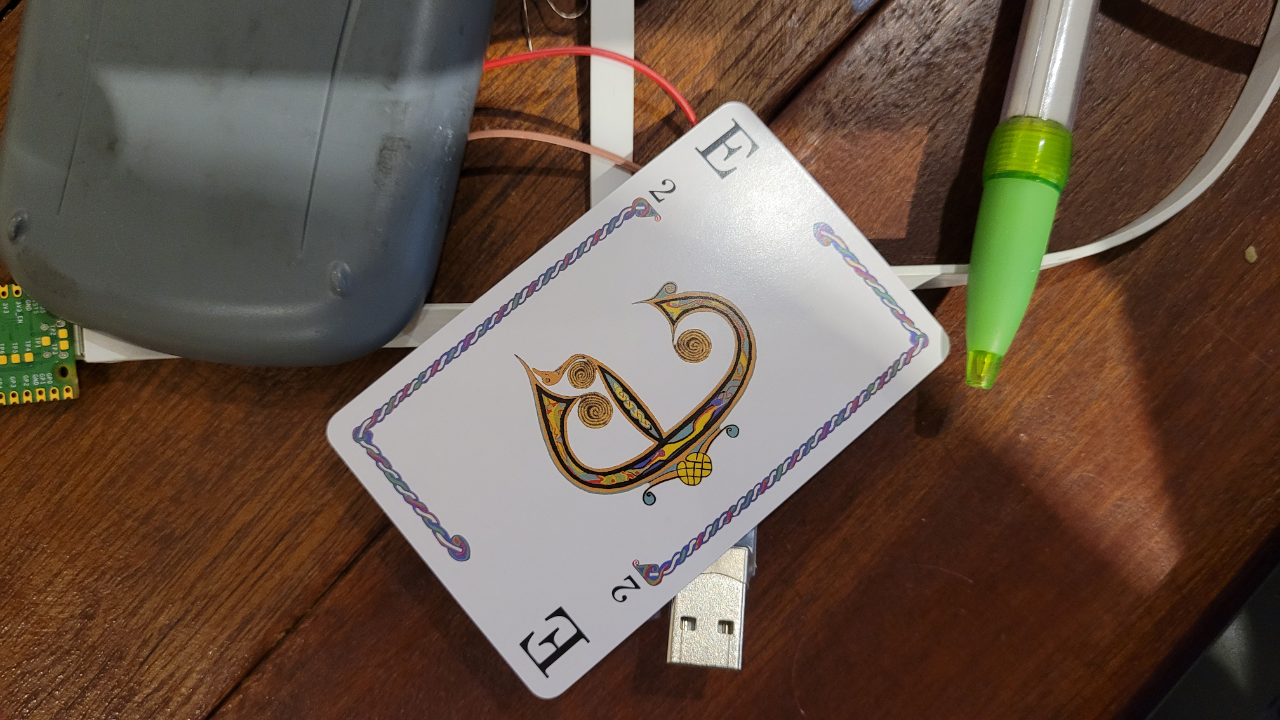quiddler_card: (308, 82, 968, 706)
